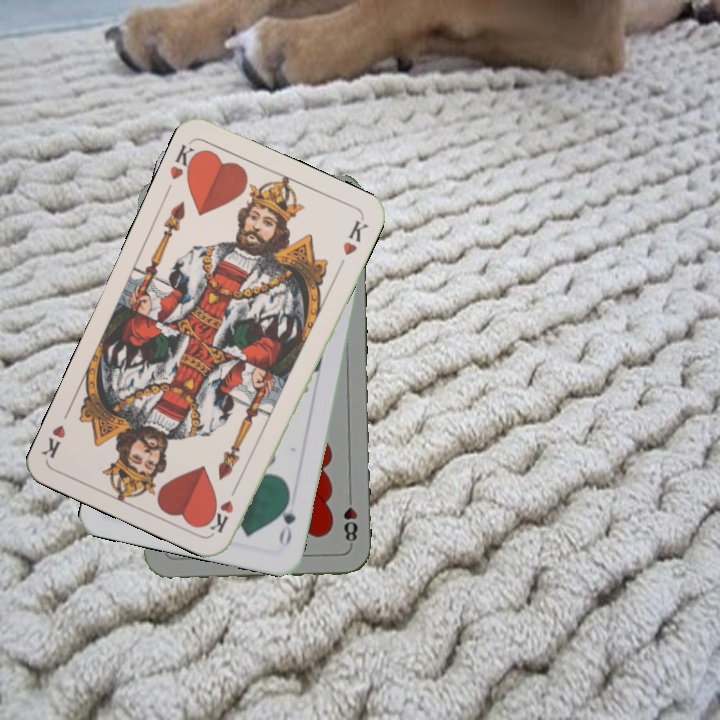GO: (274, 491, 299, 549)
H8: (339, 489, 361, 548)
HK: (207, 479, 242, 536), (165, 139, 204, 184)
